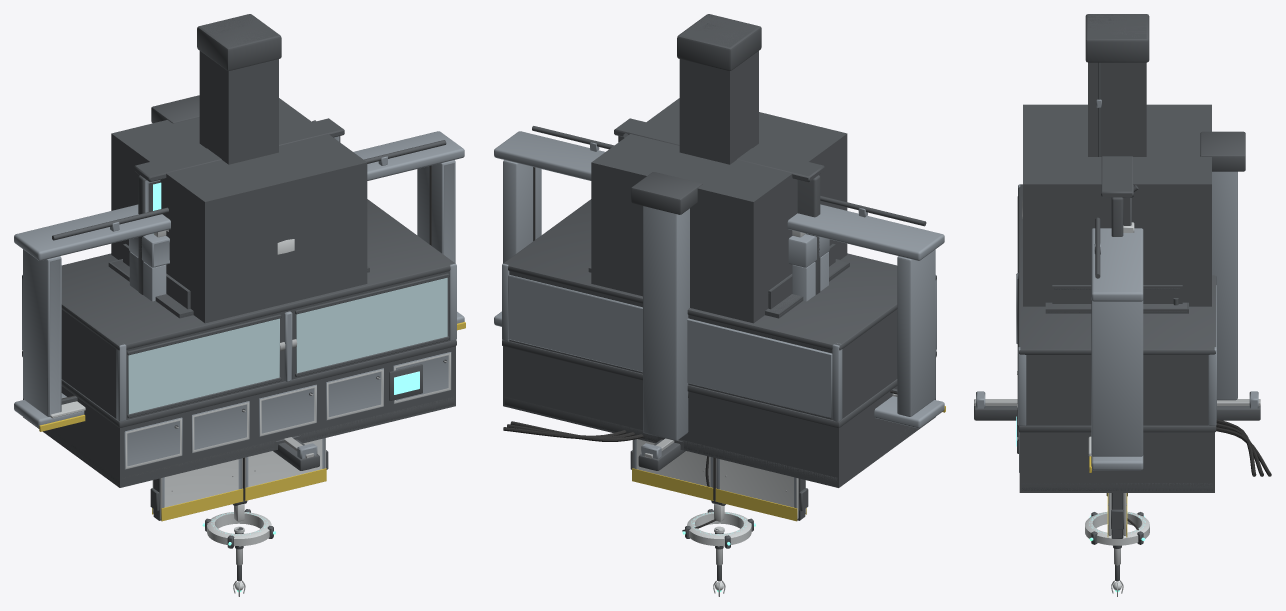
Rendered from kit.glb.
3 renders of one model, left to right at view 1: azimuth 30°, elevation 25°; view 2: azimuth 150°, elevation 25°; view 3: azimuth 270°, elevation 25°, orthographic.
Parts seen in each view (by area): view 1: robot_test_cell, COL_cell, window_frame, COL_robot_test_cell, COL_pillar, door_leaf, pillar, display_hanging, door_frame, scanner_head, cell_frame, scanner_rail (+2 smaller); view 2: robot_test_cell, COL_cell, COL_robot_test_cell, window_frame, cell_frame, COL_pillar, door_leaf, display_hanging, pillar, door_frame, scanner_head, scanner_rail (+1 smaller); view 3: COL_cell, COL_robot_test_cell, window_frame, robot_test_cell, cell_frame, COL_pillar, pillar, display_hanging, scanner_rail, COL_equip_cabinet_D, scanner_head, door_leaf (+2 smaller).
Part boxes in pixels (x1=…): robot_test_cell: x1=22, y1=199, x2=456, y2=485; COL_cell: x1=111, y1=98, x2=367, y2=323; window_frame: x1=14, y1=131, x2=465, y2=431; COL_robot_test_cell: x1=23, y1=271, x2=455, y2=487; COL_pillar: x1=199, y1=14, x2=278, y2=164; door_leaf: x1=150, y1=438, x2=328, y2=521; pillar: x1=197, y1=14, x2=281, y2=70; display_hanging: x1=134, y1=118, x2=344, y2=294; door_frame: x1=129, y1=229, x2=169, y2=301; scanner_head: x1=202, y1=500, x2=275, y2=548; cell_frame: x1=151, y1=95, x2=300, y2=450; scanner_rail: x1=273, y1=437, x2=319, y2=470; robot_test_cell: x1=502, y1=199, x2=936, y2=484; COL_cell: x1=591, y1=98, x2=847, y2=323; COL_robot_test_cell: x1=503, y1=271, x2=935, y2=487; window_frame: x1=494, y1=126, x2=945, y2=428; cell_frame: x1=503, y1=172, x2=702, y2=450; COL_pillar: x1=679, y1=14, x2=758, y2=164; door_leaf: x1=630, y1=439, x2=808, y2=521; display_hanging: x1=614, y1=118, x2=824, y2=294; pillar: x1=677, y1=14, x2=761, y2=70; door_frame: x1=788, y1=230, x2=829, y2=301; scanner_head: x1=682, y1=500, x2=755, y2=548; scanner_rail: x1=638, y1=438, x2=685, y2=470; COL_cell: x1=1023, y1=104, x2=1211, y2=306; COL_robot_test_cell: x1=1019, y1=355, x2=1214, y2=492; window_frame: x1=1088, y1=217, x2=1143, y2=472; robot_test_cell: x1=1016, y1=184, x2=1216, y2=490; cell_frame: x1=1022, y1=131, x2=1271, y2=476; COL_pillar: x1=1088, y1=14, x2=1146, y2=156; pillar: x1=1085, y1=14, x2=1149, y2=156; display_hanging: x1=1101, y1=156, x2=1138, y2=236; scanner_rail: x1=974, y1=391, x2=1260, y2=420; COL_equip_cabinet_D: x1=1052, y1=285, x2=1182, y2=303; scanner_head: x1=1085, y1=511, x2=1149, y2=545; door_leaf: x1=1106, y1=493, x2=1127, y2=538.
Bounding box in the file's own units: 7.62 × 9.62 × 4.57.
